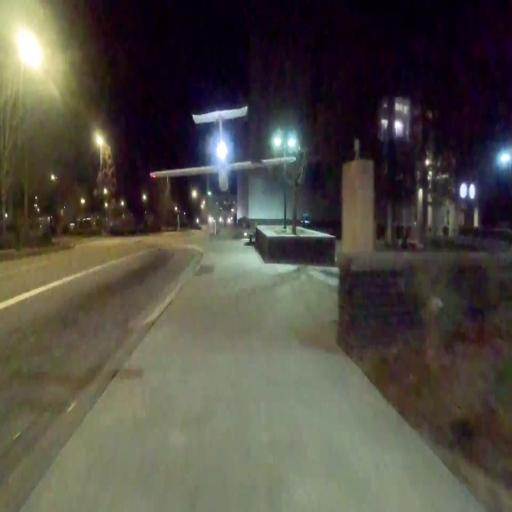uav: (146, 102, 298, 198)
